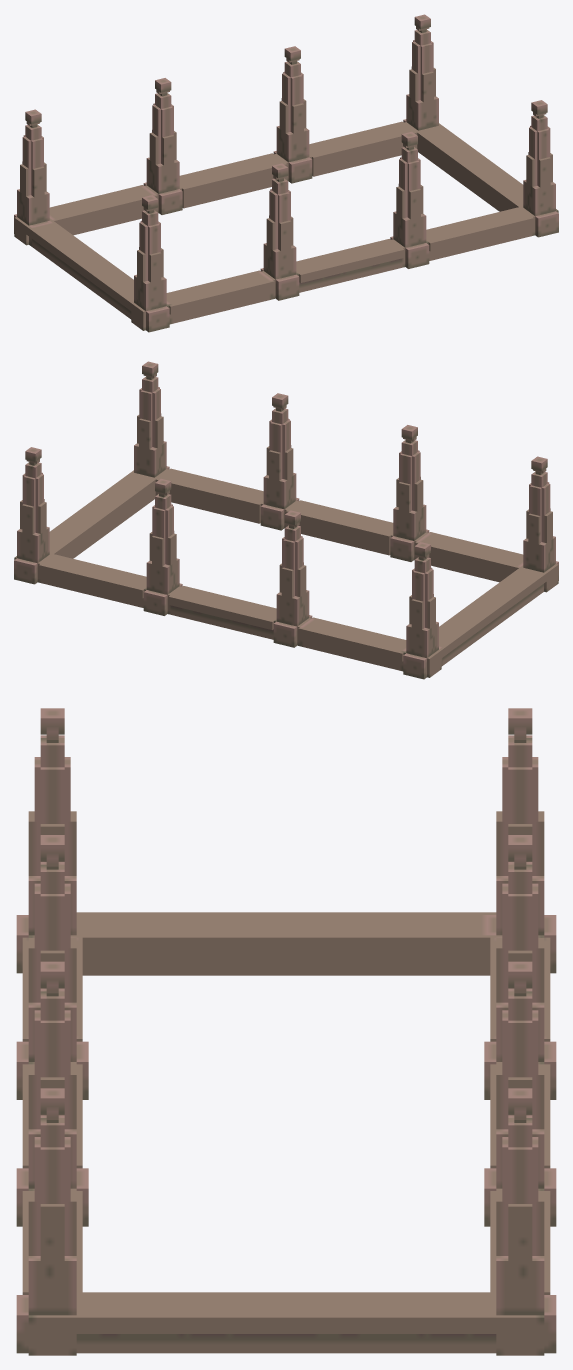
File: BuildingBlock_Top-2.fbx
3 renders of one model, top to bottom at view 1: azimuth 30°, elevation 25°; view 2: azimuth 150°, elevation 25°; view 3: azimuth 270°, elevation 25°, orthographic. The views are drawn at different scales.
Parts seen in each view (by area): view 1: BuildingBlock_Top-2; view 2: BuildingBlock_Top-2; view 3: BuildingBlock_Top-2.
Part boxes in pixels (box(x1,y1,x2,y2)): BuildingBlock_Top-2: box(14, 14, 558, 332); BuildingBlock_Top-2: box(14, 361, 558, 679); BuildingBlock_Top-2: box(16, 708, 556, 1355).
Size of the model in its own units: 800 by 230 by 450.
